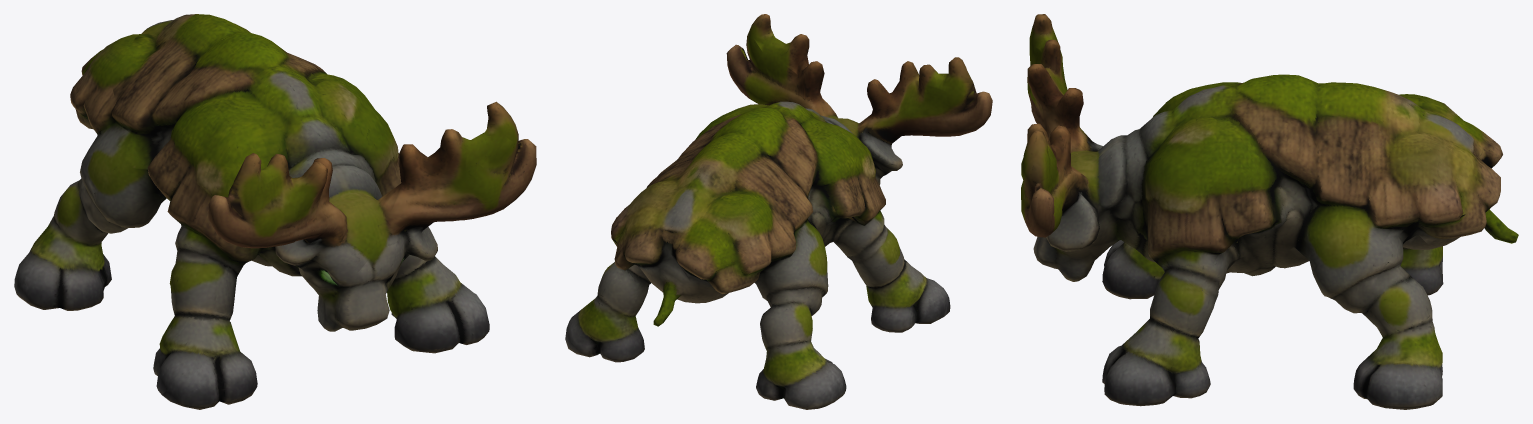
The model's file is ghaltrek_v2.glb.
3 renders of one model, left to right at view 1: azimuth 30°, elevation 25°; view 2: azimuth 150°, elevation 25°; view 3: azimuth 270°, elevation 25°, orthographic. The views are drawn at different scales.
Parts seen in each view (by area): view 1: ghaltrek-m0-8000-v2; view 2: ghaltrek-m0-8000-v2; view 3: ghaltrek-m0-8000-v2.
Boxes of the visible parts, <box> form: ghaltrek-m0-8000-v2: <box>14,14,536,409</box>; ghaltrek-m0-8000-v2: <box>565,14,992,409</box>; ghaltrek-m0-8000-v2: <box>1021,14,1518,409</box>.
Bounding box in the file's own units: 0.7317 × 0.585 × 0.9967.
Materials: 1 (1 with a texture image).
